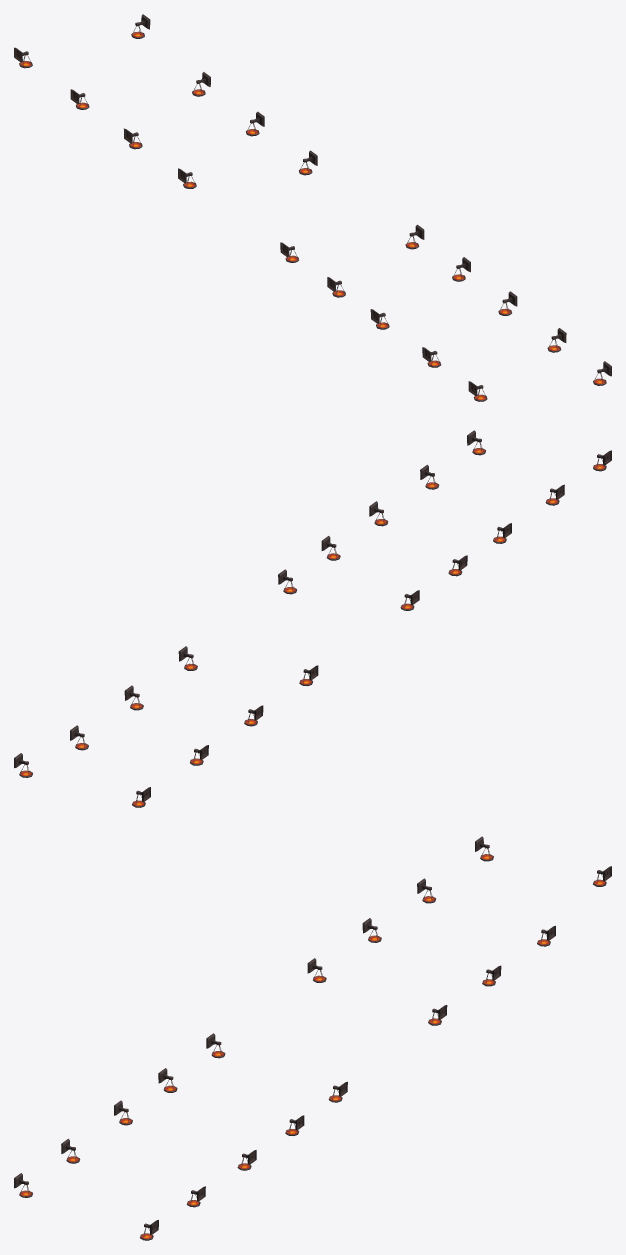
File: wujian20.fbx
3 views of the same model, one above another, from view 1: azimuth 30°, elevation 25°; view 2: azimuth 150°, elevation 25°; view 3: azimuth 330°, elevation 25° (orthographic).
Visible parts, largest first — view 1: wujian20; view 2: wujian20; view 3: wujian20.
Part boxes in pixels (x1,y1,x2,y2): wujian20: (14,14,611,401); wujian20: (14,430,611,807); wujian20: (14,836,611,1240).
Bounding box in the file's own units: 1251 × 290 × 7270.
Materials: 1 (1 with a texture image).
